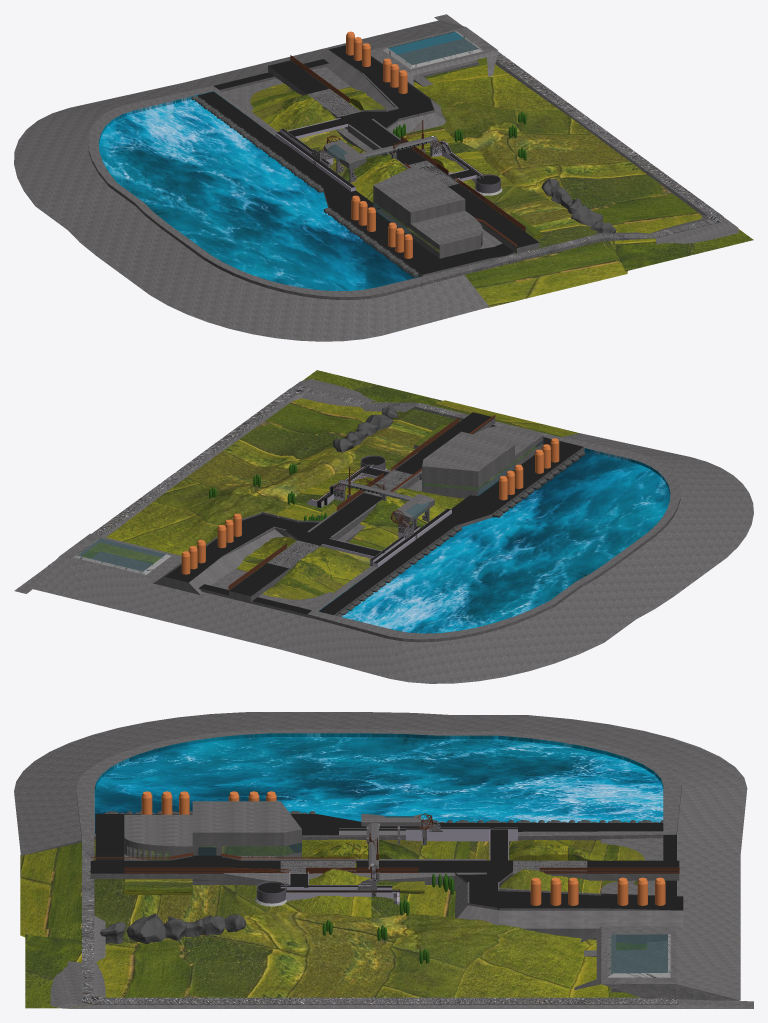
The model's file is eco_sustainable_farm_concept.glb.
3 views of the same model, one above another, from view 1: azimuth 30°, elevation 25°; view 2: azimuth 150°, elevation 25°; view 3: azimuth 270°, elevation 25° (orthographic). The views are drawn at different scales.
Parts seen in each view (by area): view 1: Plane.005_29, Landscape.004_34, Plane.003_1, Landscape_16, Plane.008_48, Landscape.003_30, Cube.013_22, rock.005_46, Cylinder.006_45, Cylinder.005_47, rock.001_44, Plane.006_32 (+3 smaller); view 2: Plane.005_29, Landscape.004_34, Plane.003_1, Landscape_16, Landscape.003_30, Plane.008_48, Cube.013_22, Cylinder.006_45, Cylinder.005_47, rock.005_46, Plane.006_32, rock.001_44 (+3 smaller); view 3: Plane.005_29, Landscape.004_34, Plane.003_1, Landscape_16, Plane.008_48, Landscape.003_30, rock.005_46, Plane.006_32, Cube.013_22, Cylinder.005_47, Cube.010_15, Cube.001_2 (+5 smaller).
Boxes of the visible parts, x1,y1,x2,y2 form: Plane.005_29: (14, 14, 738, 341); Landscape.004_34: (413, 57, 753, 281); Plane.003_1: (198, 45, 542, 276); Landscape_16: (316, 126, 627, 307); Plane.008_48: (268, 60, 539, 247); Landscape.003_30: (250, 83, 385, 149); Cube.013_22: (275, 118, 355, 191); rock.005_46: (541, 178, 616, 241); Cylinder.006_45: (351, 195, 412, 258); Cylinder.005_47: (346, 31, 407, 93); rock.001_44: (191, 96, 323, 192); Plane.006_32: (290, 55, 525, 231); Plane.005_29: (14, 379, 753, 683); Landscape.004_34: (81, 370, 489, 563); Plane.003_1: (153, 418, 583, 619); Landscape_16: (273, 400, 579, 550); Landscape.003_30: (236, 536, 370, 599); Plane.008_48: (229, 412, 494, 596); Cube.013_22: (321, 508, 451, 567); Cylinder.006_45: (499, 438, 559, 500); Cylinder.005_47: (181, 513, 241, 574); rock.005_46: (333, 405, 397, 452); Plane.006_32: (228, 417, 459, 590); rock.001_44: (335, 525, 462, 616); Plane.005_29: (14, 712, 753, 1008); Landscape.004_34: (25, 911, 646, 1008); Plane.003_1: (90, 801, 683, 943); Landscape_16: (20, 839, 470, 943); Plane.008_48: (90, 847, 679, 873); Landscape.003_30: (470, 840, 644, 893); rock.005_46: (100, 913, 245, 943); Plane.006_32: (124, 867, 679, 873); Cube.013_22: (339, 819, 517, 860); Cylinder.005_47: (530, 877, 665, 905); Cube.010_15: (280, 871, 399, 904); Cube.001_2: (223, 872, 486, 885).
Size of the model in its own units: 5.58 by 0.7429 by 5.91.
Materials: 13 (4 with a texture image).
